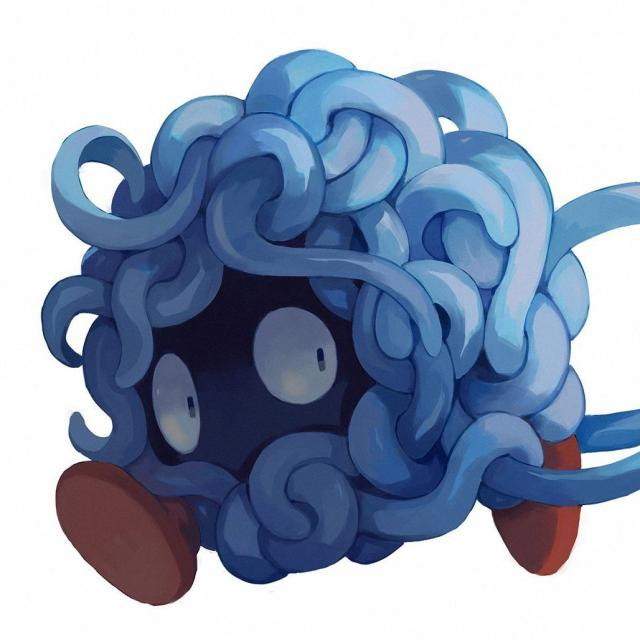Tangela: (47, 67, 578, 590)
